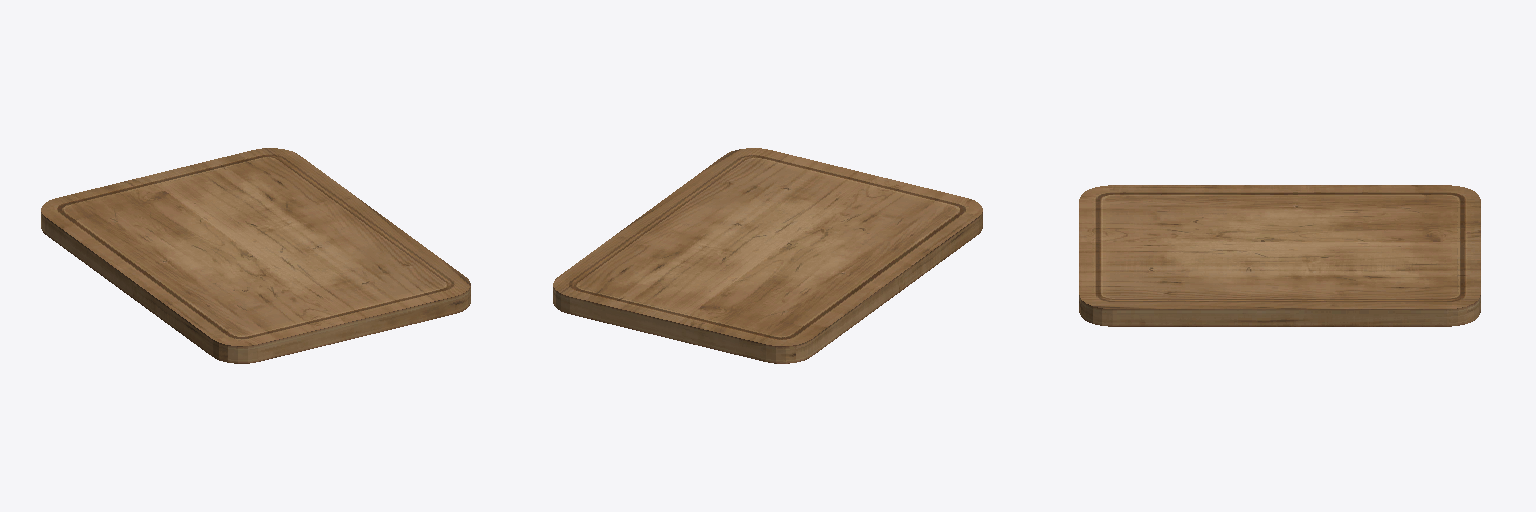
3 renders of one model, left to right at view 1: azimuth 30°, elevation 25°; view 2: azimuth 150°, elevation 25°; view 3: azimuth 270°, elevation 25°, orthographic.
Visible parts, largest first — view 1: cuttingboard; view 2: cuttingboard; view 3: cuttingboard.
Boxes of the visible parts, <box> form: cuttingboard: <box>41,148,470,363</box>; cuttingboard: <box>553,148,982,363</box>; cuttingboard: <box>1079,185,1480,326</box>.
Bounding box in the file's own units: 0.0093 × 0.0006 × 0.0127.
1 materials, 1 textured.